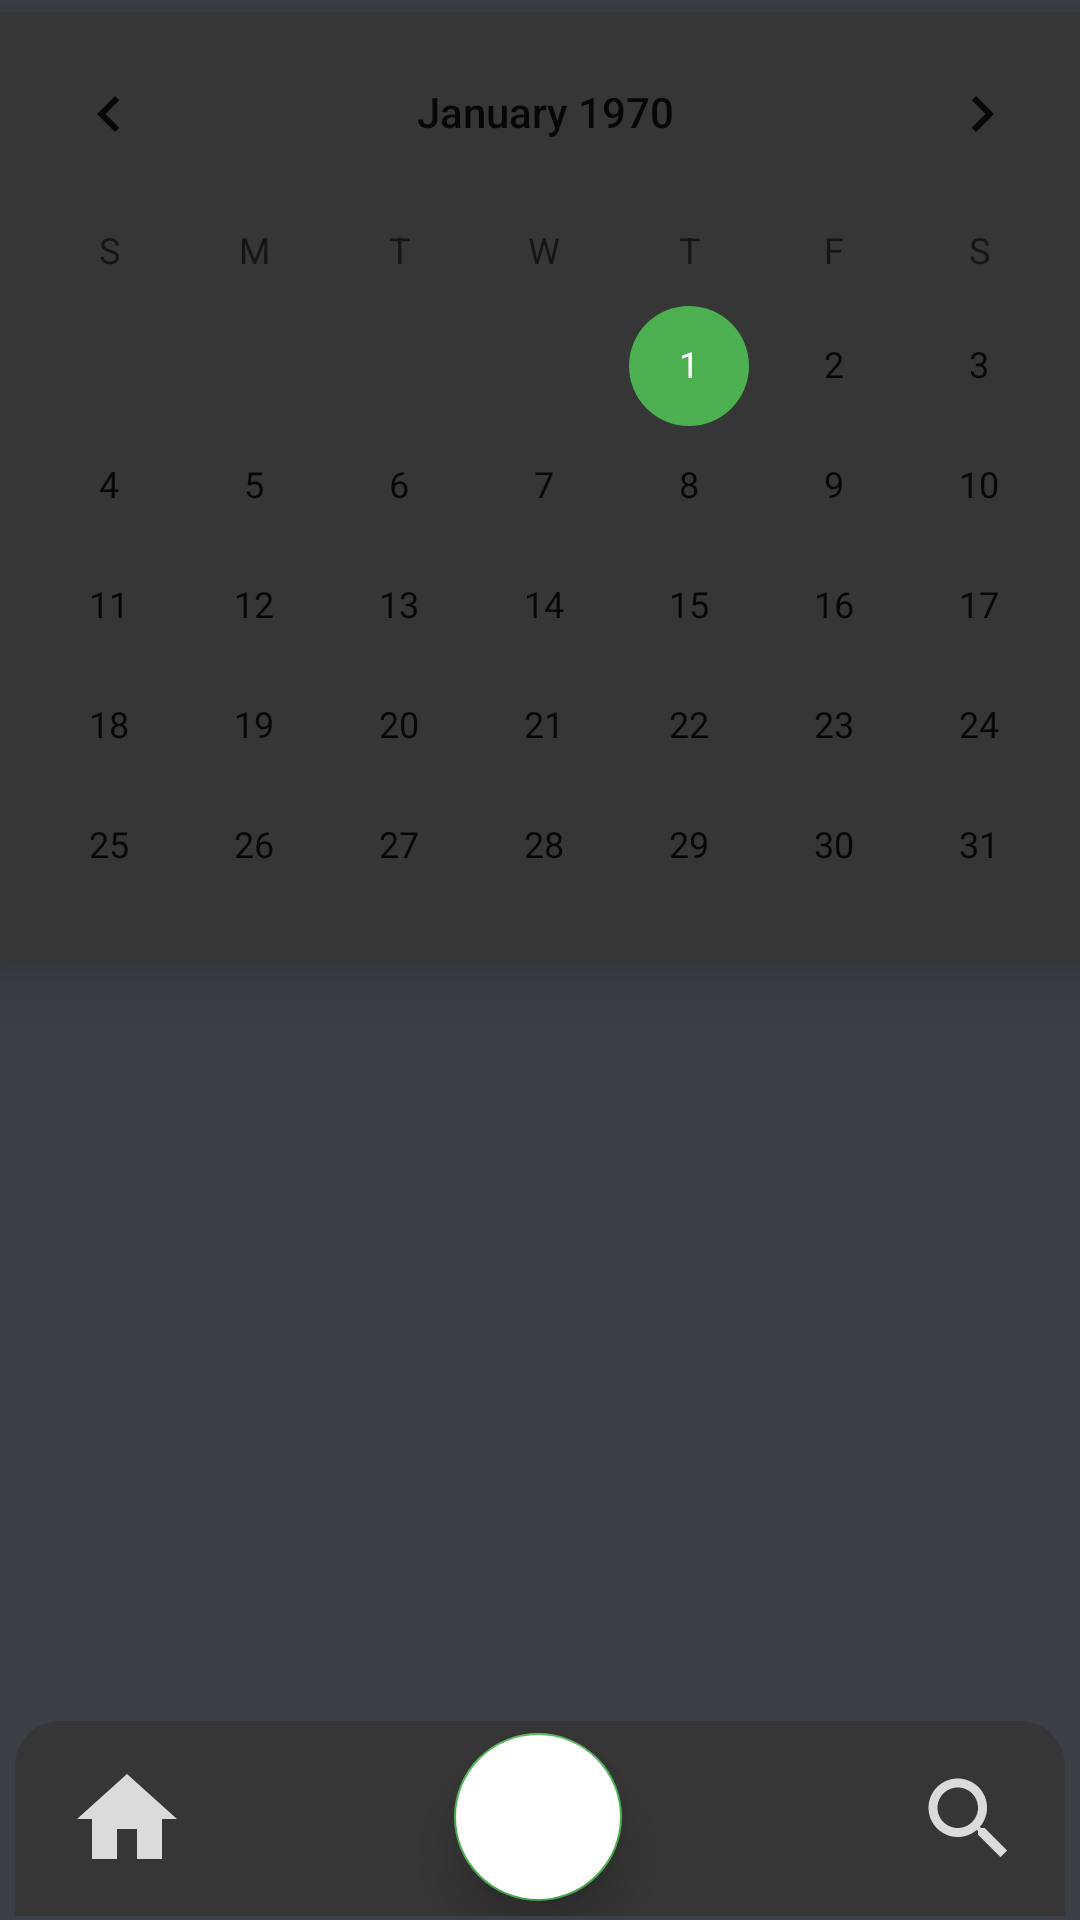

Icon click points for this 1080 x 1920 phone screenshot, format (x,y):
home: (127,1816)
search: (967,1817)
